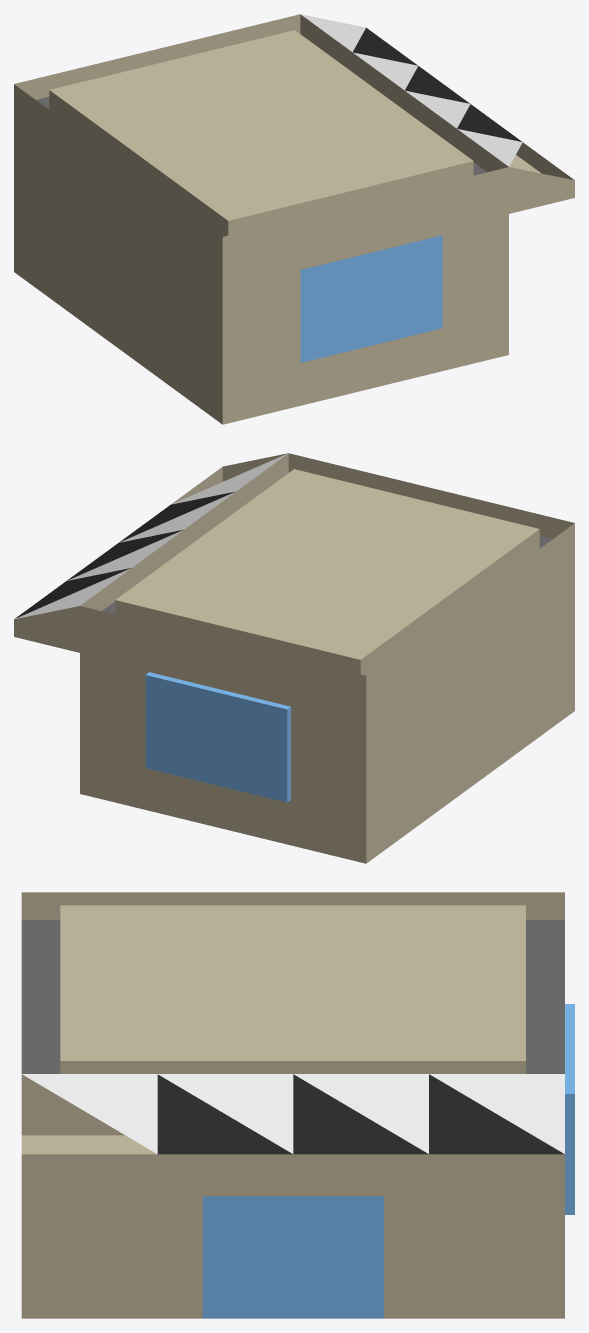
The model's file is store.fbx.
3 renders of one model, top to bottom at view 1: azimuth 30°, elevation 25°; view 2: azimuth 150°, elevation 25°; view 3: azimuth 270°, elevation 25°, orthographic. The views are drawn at different scales.
Parts seen in each view (by area): view 1: Cube; view 2: Cube; view 3: Cube.
Part boxes in pixels (x1=…): Cube: x1=14, y1=14, x2=574, y2=424; Cube: x1=14, y1=453, x2=574, y2=863; Cube: x1=21, y1=892, x2=574, y2=1318.
Bounding box in the file's own units: 14.41 × 7.35 × 15.28.
